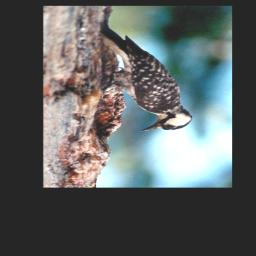Woodpecker: (94, 19, 204, 134)
